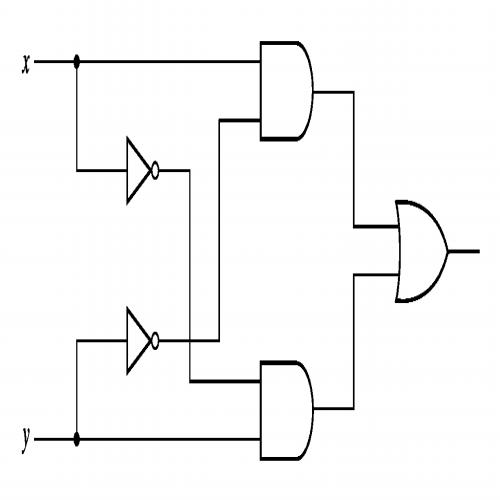and: (253, 33, 320, 150), (253, 352, 319, 466)
not: (120, 126, 163, 210), (122, 300, 164, 382)
or: (390, 192, 452, 310)
